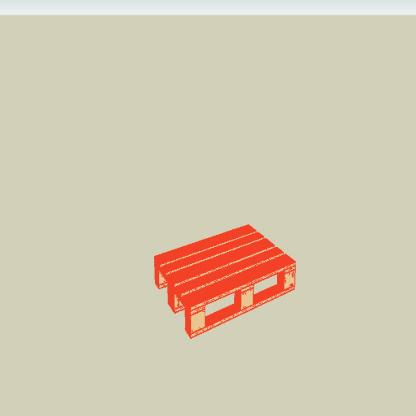BoxFace: (151, 219, 299, 344)
